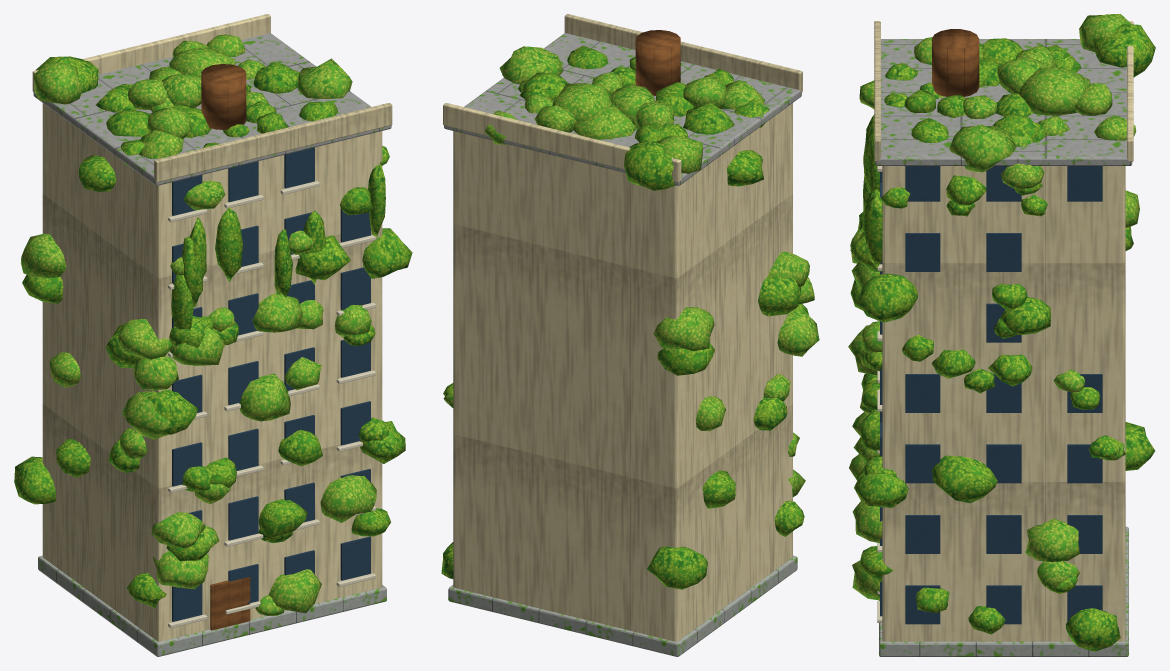
Rendered from building-ivy-a.glb.
The picture shows the model from 3 angles, left to right: view 1: azimuth 30°, elevation 25°; view 2: azimuth 150°, elevation 25°; view 3: azimuth 270°, elevation 25°; orthographic projection. The views are drawn at different scales.
Parts seen in each view (by area): view 1: building-ivy-a; view 2: building-ivy-a; view 3: building-ivy-a.
Boxes of the visible parts, <box> form: building-ivy-a: <box>14,14,412,656</box>; building-ivy-a: <box>441,14,819,656</box>; building-ivy-a: <box>848,14,1155,656</box>.
Bounding box in the file's own units: 4.96 × 9.05 × 4.55.
8 materials, 8 textured.
